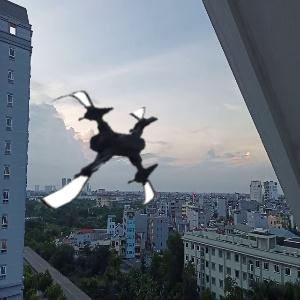drone: (25, 83, 173, 231)
